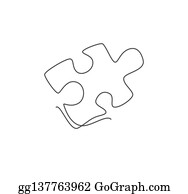puzzle piece: (38, 31, 152, 125)
